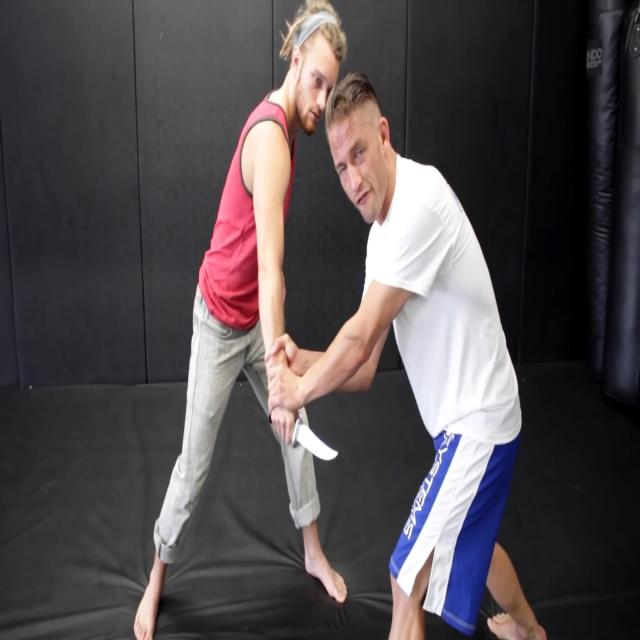knife: (295, 419, 341, 473)
